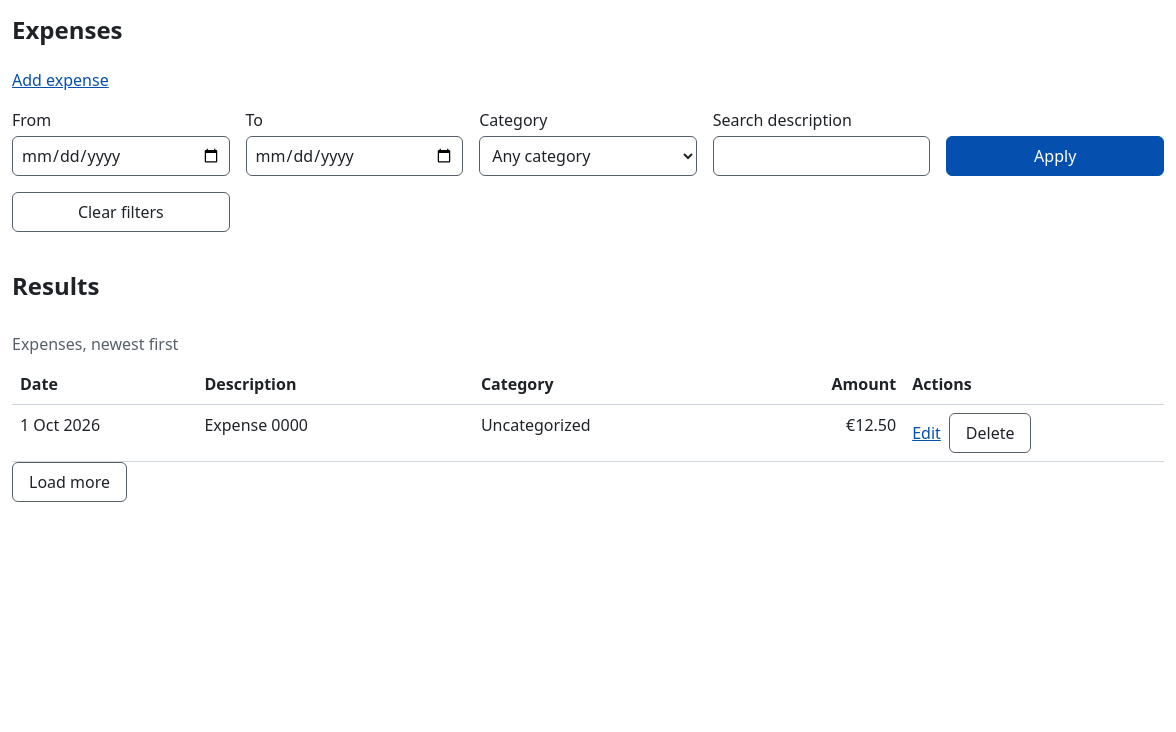
Scenario: ExpensesView: Load more › offers "Keep searching" after three empty pages in a row
Click the button "Load more": (70, 482) [12, 462, 127, 502]
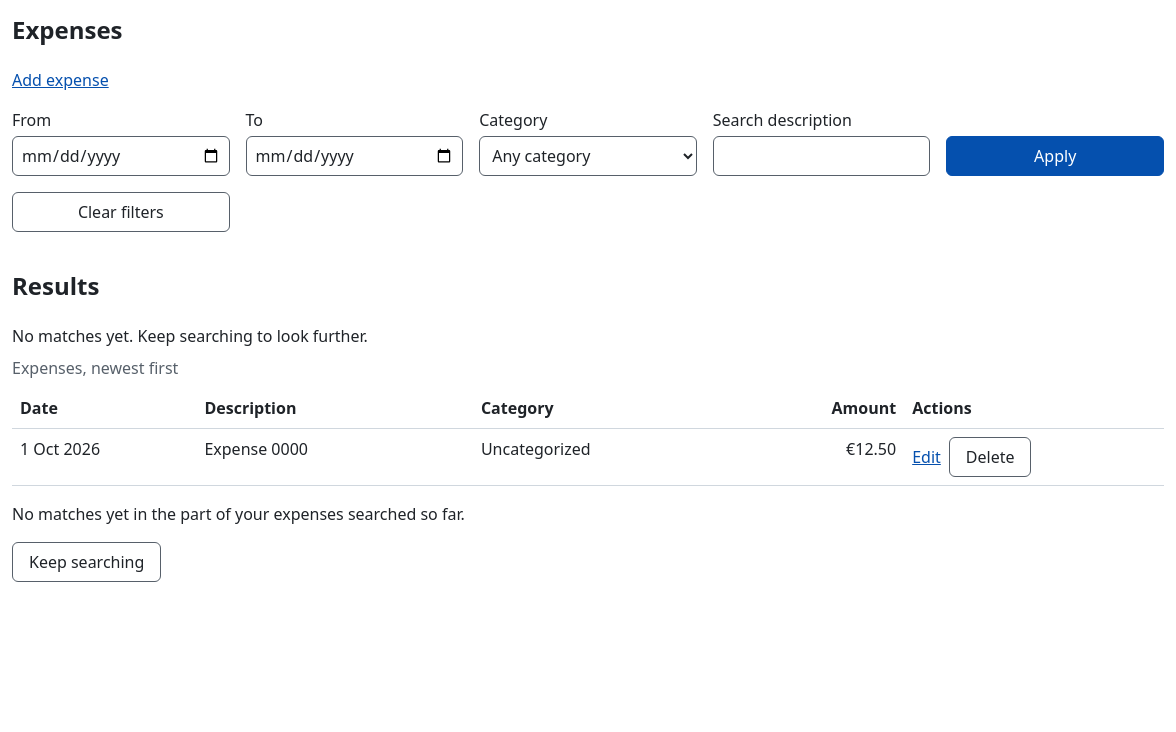
Check: the button "Keep searching" is shown, box [12, 542, 161, 582]
Check: the text with class "status" shows "Keep searching", box [12, 325, 368, 347]
